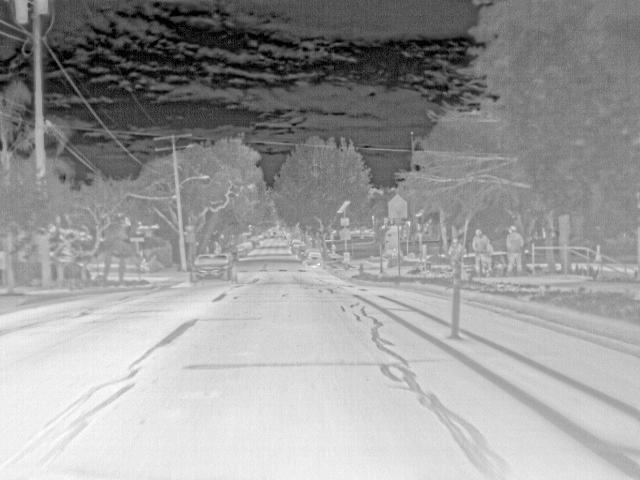car: (194, 252, 236, 280), (303, 252, 322, 268), (235, 243, 249, 259), (298, 244, 313, 258), (241, 239, 255, 252), (290, 244, 304, 256), (289, 236, 303, 248), (248, 236, 263, 246)
person: (505, 224, 524, 276), (472, 227, 491, 276), (444, 236, 466, 276), (139, 257, 150, 272), (330, 243, 338, 254)
